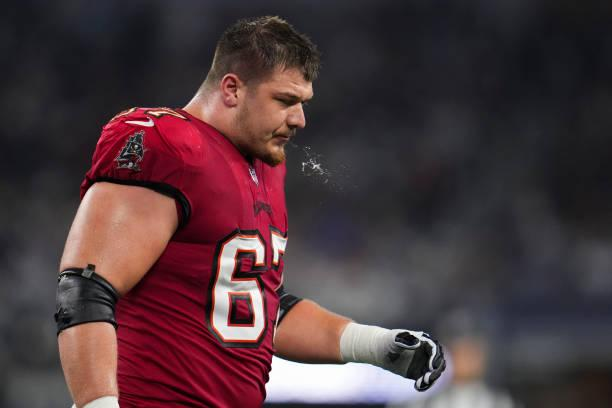Spitting: (207, 0, 385, 207)
